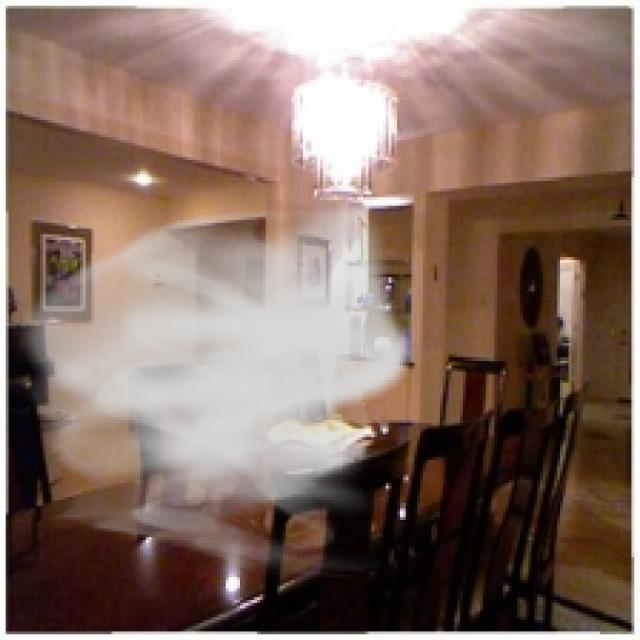Smoke: (8, 197, 414, 580)
